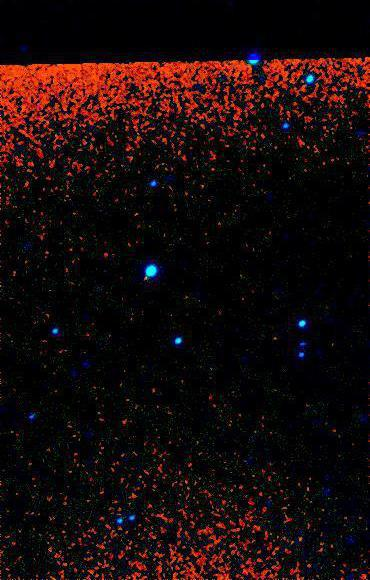star: (131, 264, 161, 294)
